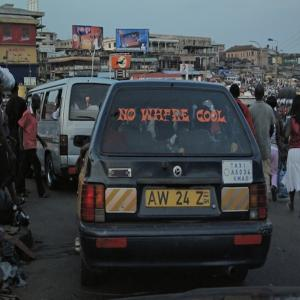Vehicle-registration-plate: (148, 190, 212, 207)
